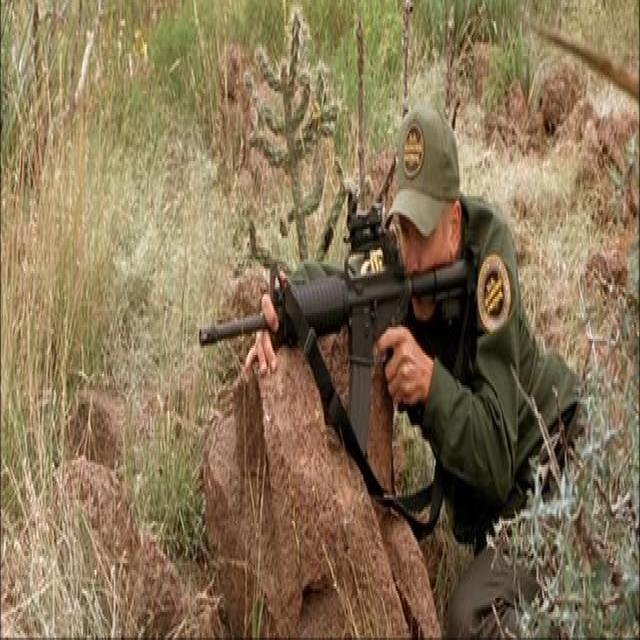pistol: (197, 188, 476, 467)
